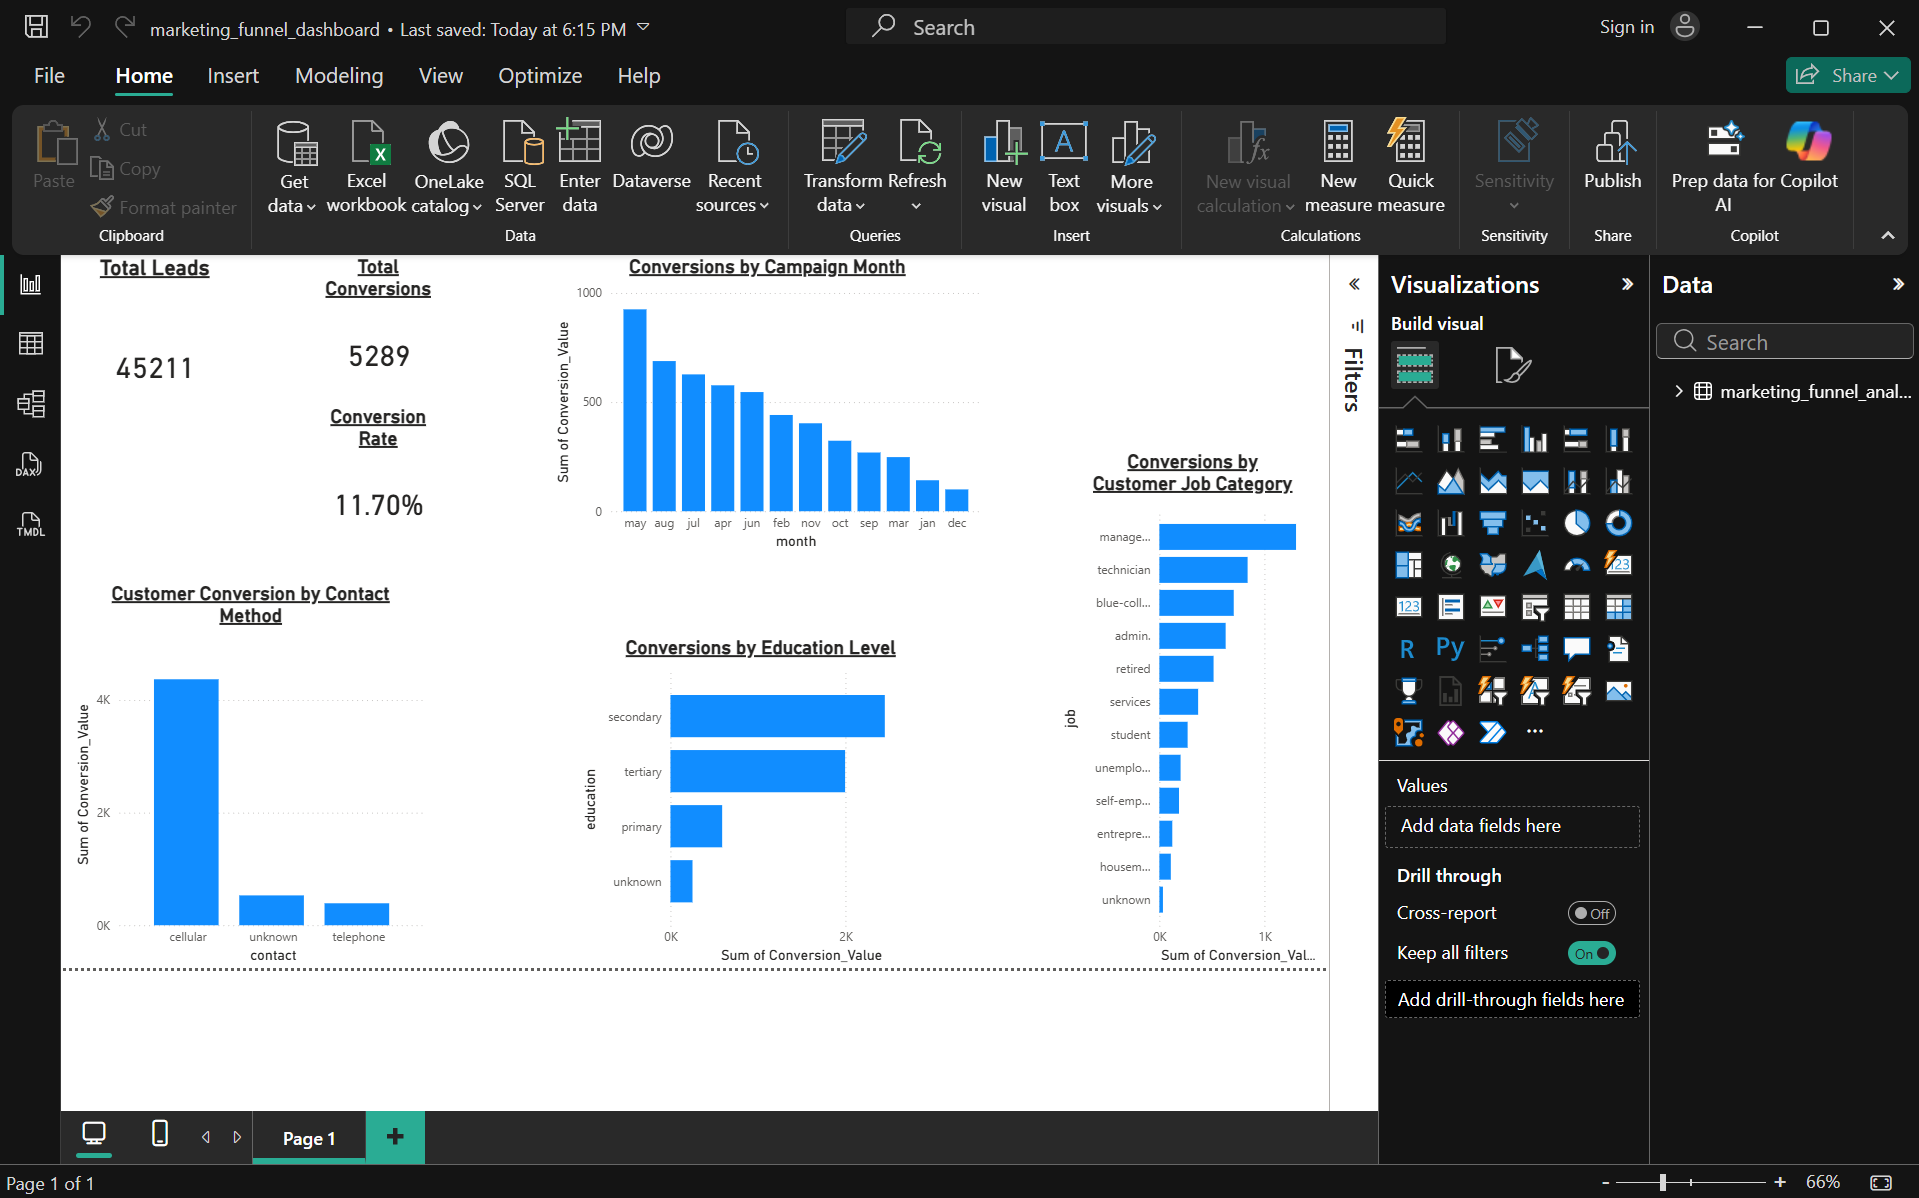

What the dashboard file says about the page in this screenshot:
{"tool":"powerbi","page":{"name":"Page 1","canvas":[1280,720],"ordinal":0},"visuals":[{"type":"card","title":"Total Leads","fields":{"Values":["CountNonNull(marketing_funnel_analysis.age)"]},"box":[9.1,0,171.1,196.8],"z":0},{"type":"clusteredColumnChart","title":"Customer Conversion by Contact Method","fields":{"Category":["marketing_funnel_analysis.contact"],"Y":["Sum(marketing_funnel_analysis.Conversion_Value)"]},"box":[9.1,330.1,364.9,389.2],"z":1},{"type":"clusteredColumnChart","title":"Conversions by Campaign Month","fields":{"Category":["marketing_funnel_analysis.month"],"Y":["Sum(marketing_funnel_analysis.Conversion_Value)"]},"box":[493.6,0,439.1,301.3],"z":2},{"type":"clusteredBarChart","title":"Conversions by Customer Job Category","fields":{"Category":["marketing_funnel_analysis.job"],"Y":["Sum(marketing_funnel_analysis.Conversion_Value)"]},"box":[1005.4,196.8,274.1,522.4],"z":3},{"type":"clusteredBarChart","title":"Conversions by Education Level","fields":{"Category":["marketing_funnel_analysis.education"],"Y":["Sum(marketing_funnel_analysis.Conversion_Value)"]},"box":[520.9,384.6,371,334.6],"z":4},{"type":"card","title":"Total Conversions","fields":{"Values":["Sum(marketing_funnel_analysis.Conversion_Value)"]},"box":[245.3,0,149.9,151.4],"z":5},{"type":"card","title":"Conversion Rate","fields":{"Values":["marketing_funnel_analysis.Conversion Percentage"]},"box":[245.3,151.4,149.9,149.9],"z":6}]}

Visuals, with their boxes on the page's 1280x720 design canvas (x1, y1, x2, y2). These are canvas units, not pixel positions in the 1919x1198 screenshot, which may show the page scaled, cropped or inside an application window:
"Total Leads" card: [9, 0, 180, 197]
"Customer Conversion by Contact Method" clusteredColumnChart: [9, 330, 374, 719]
"Conversions by Campaign Month" clusteredColumnChart: [494, 0, 933, 301]
"Conversions by Customer Job Category" clusteredBarChart: [1005, 197, 1280, 719]
"Conversions by Education Level" clusteredBarChart: [521, 385, 892, 719]
"Total Conversions" card: [245, 0, 395, 151]
"Conversion Rate" card: [245, 151, 395, 301]
